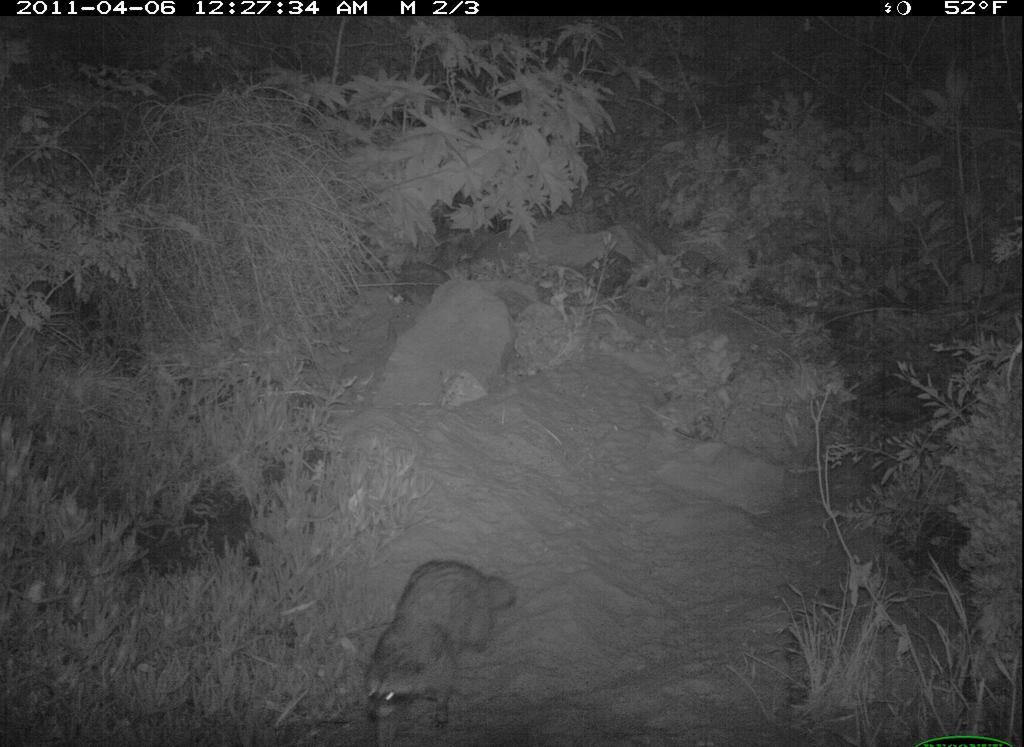raccoon: (347, 553, 525, 745)
